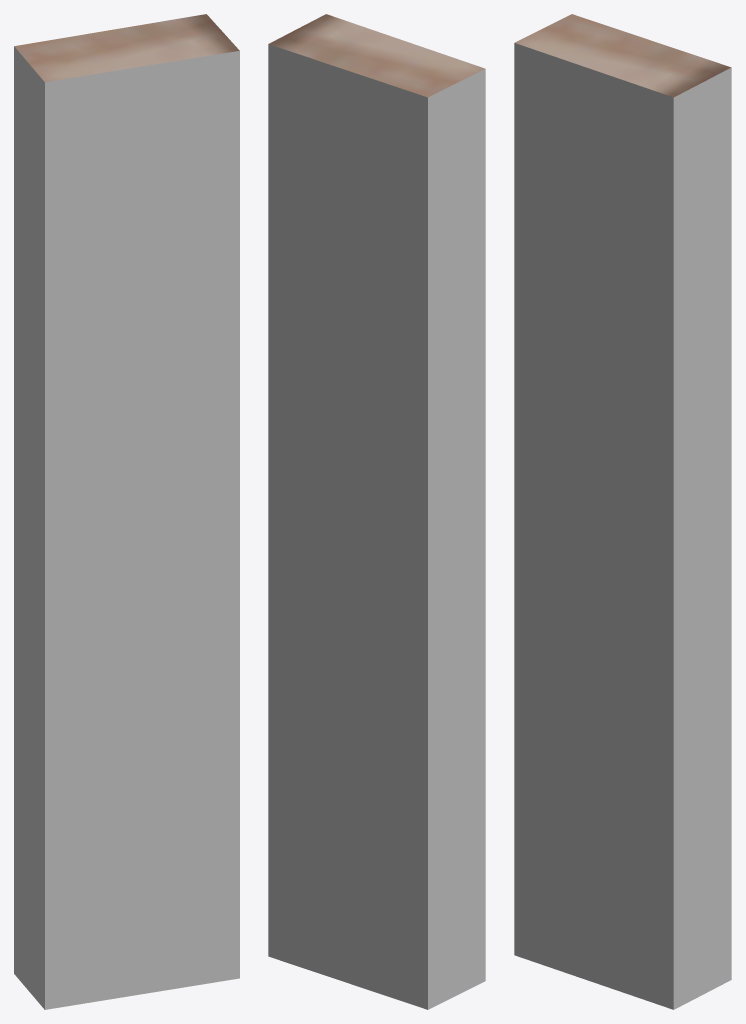
Rendered from DEBW_0010007THY2.gltf.
3 renders of one model, left to right at view 1: azimuth 30°, elevation 25°; view 2: azimuth 150°, elevation 25°; view 3: azimuth 330°, elevation 25°, orthographic.
Parts seen in each view (by area): view 1: Z_UP; view 2: Z_UP; view 3: Z_UP.
Boxes of the visible parts, x1,y1,x2,y2 form: Z_UP: (14, 14, 239, 1009); Z_UP: (268, 14, 485, 1009); Z_UP: (514, 14, 731, 1009).
Bounding box in the file's own units: 3.29 × 15.24 × 1.82.
Materials: 2 (1 with a texture image).
